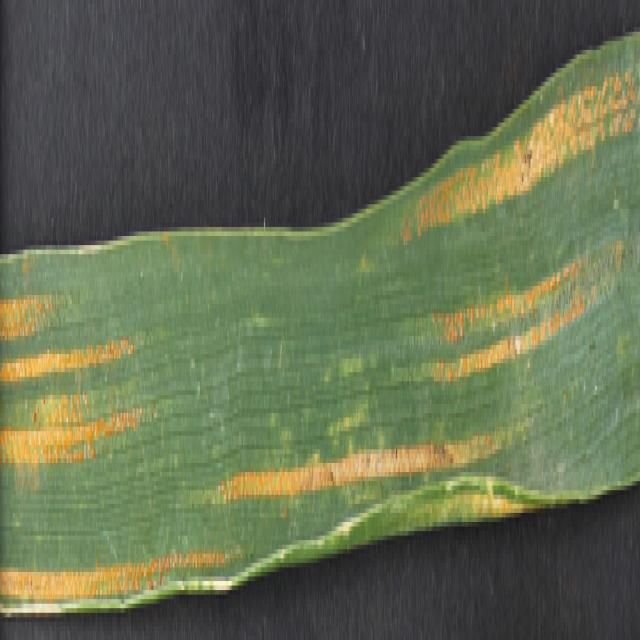leaf rust: (234, 54, 636, 572), (1, 272, 229, 595)
